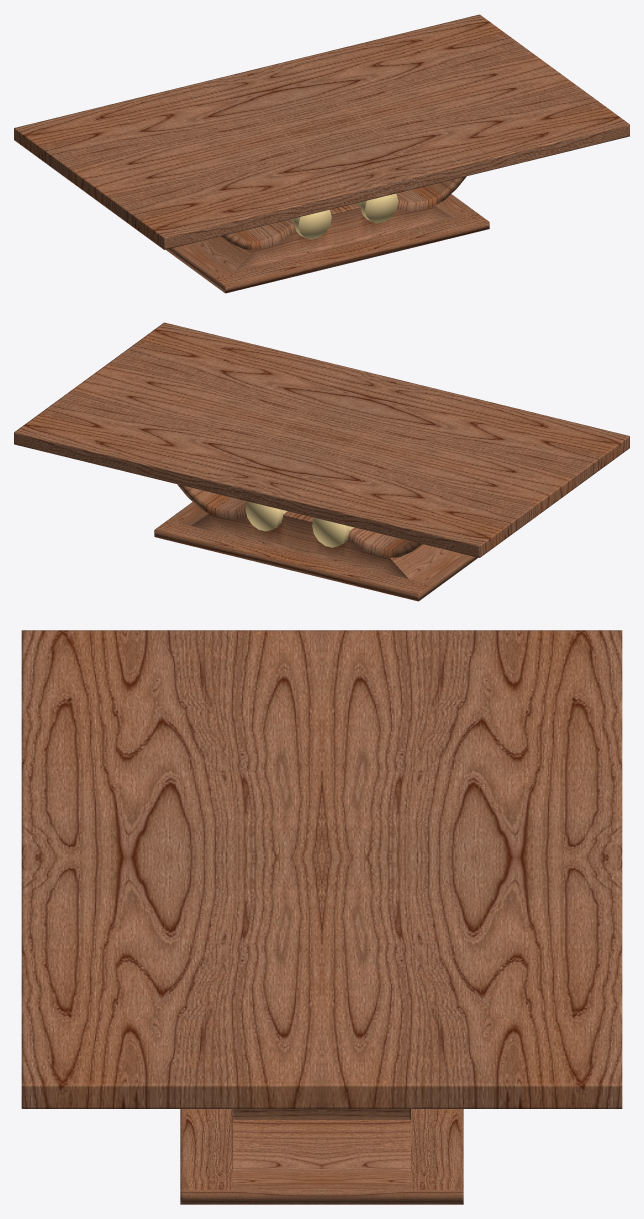
File: Table.fbx
3 renders of one model, top to bottom at view 1: azimuth 30°, elevation 25°; view 2: azimuth 150°, elevation 25°; view 3: azimuth 270°, elevation 25°, orthographic. The views are drawn at different scales.
Parts seen in each view (by area): view 1: Table; view 2: Table; view 3: Table.
Part boxes in pixels (box(x1,y1,x2,y2)): Table: box(14, 14, 629, 293); Table: box(14, 322, 629, 601); Table: box(21, 630, 622, 1204).
Size of the model in its own units: 2034 by 455 by 1136.
